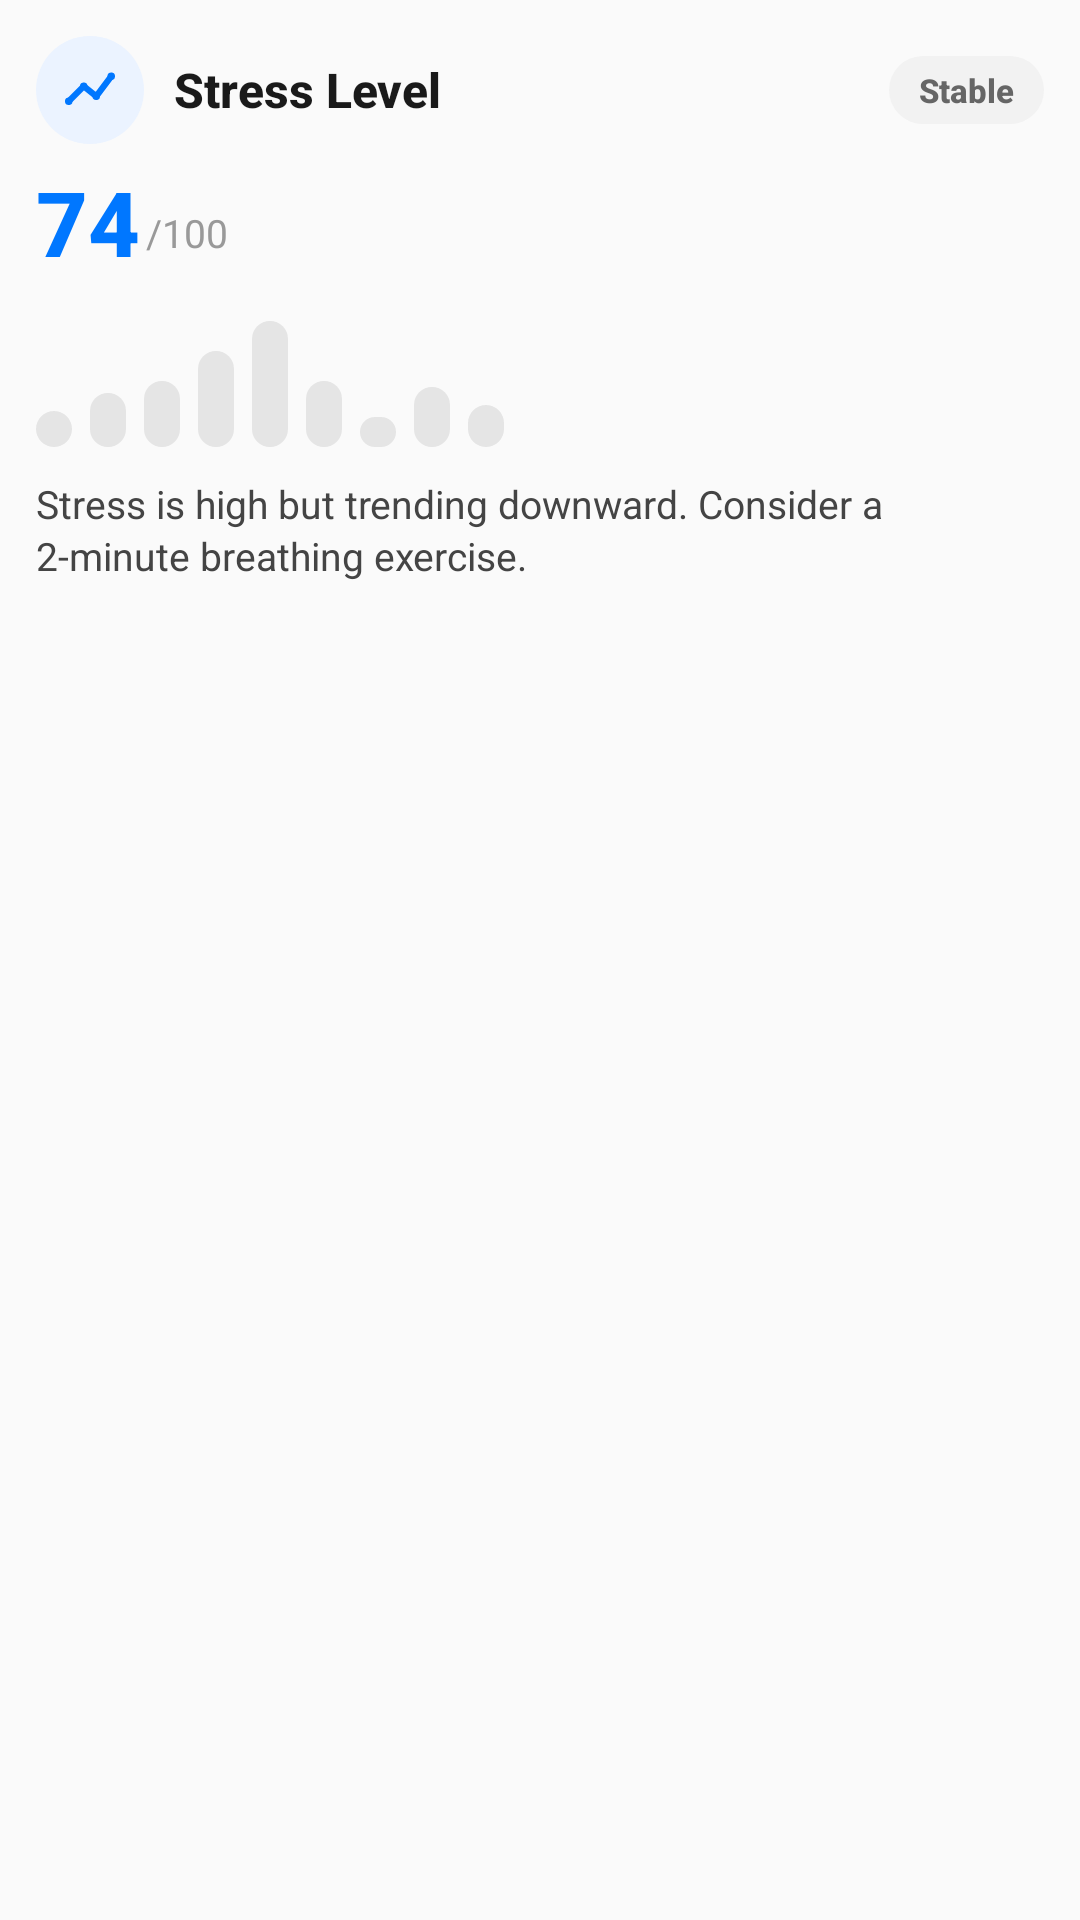

Icons on this 1080px×1920px Android screen, each with the point to tap as point (x, y):
circle trend: point (90, 90)
